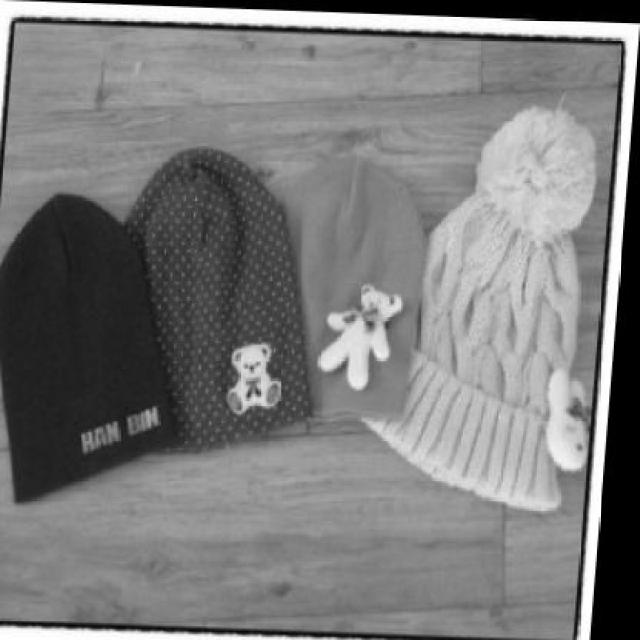hat: (353, 95, 616, 510), (107, 140, 336, 457), (0, 190, 206, 507), (253, 129, 438, 425)
